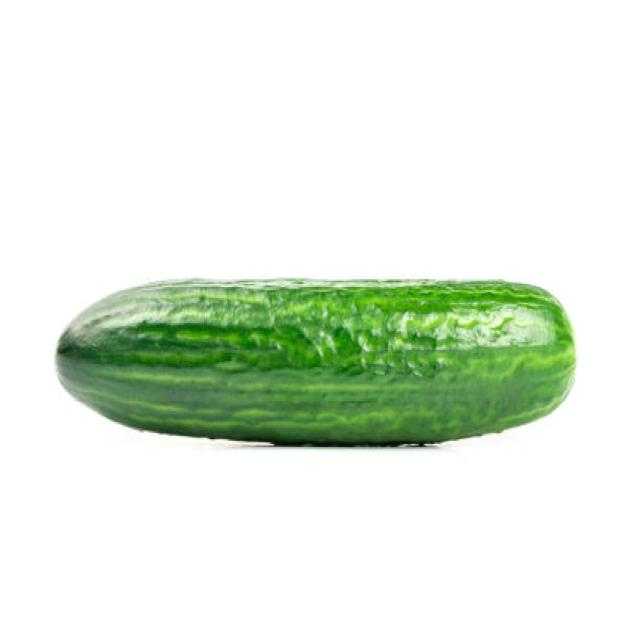cucumber: (55, 274, 576, 446)
